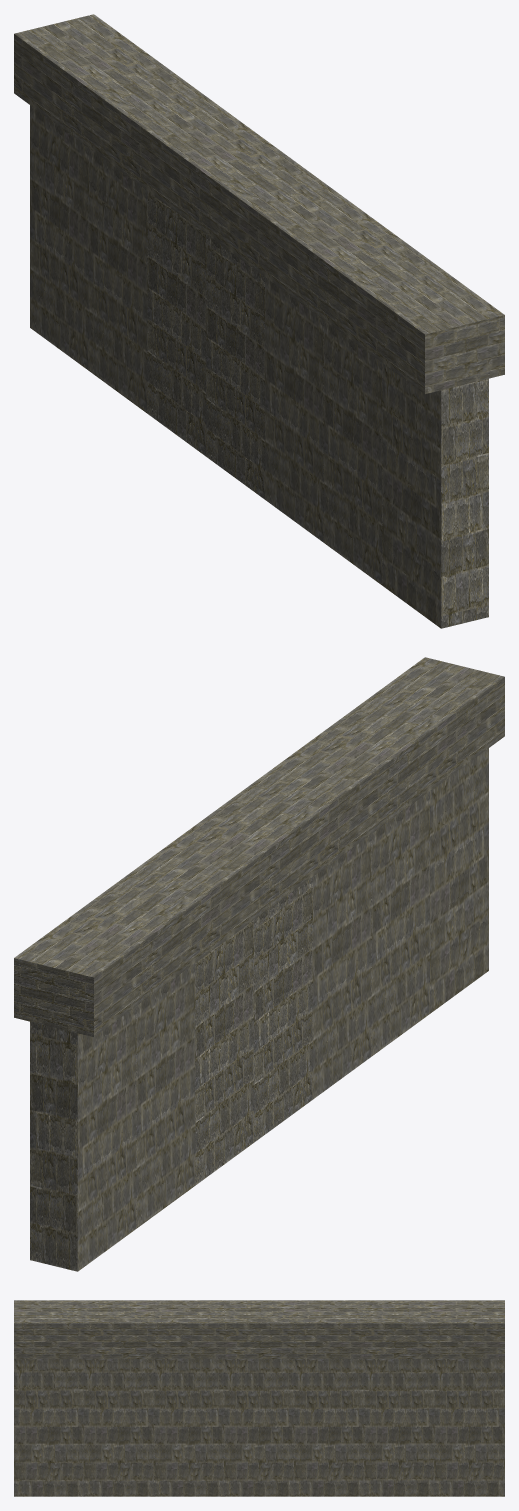
The model's file is WALL2.fbx.
3 renders of one model, top to bottom at view 1: azimuth 30°, elevation 25°; view 2: azimuth 150°, elevation 25°; view 3: azimuth 270°, elevation 25°, orthographic. The views are drawn at different scales.
Visible parts, largest first — view 1: wallharang; view 2: wallharang; view 3: wallharang.
Part boxes in pixels (bbox=[...]): wallharang: bbox=[14, 14, 504, 628]; wallharang: bbox=[14, 657, 504, 1271]; wallharang: bbox=[14, 1300, 504, 1496].
Size of the model in its own units: 348 by 1240 by 3100.
1 material, 1 textured.
